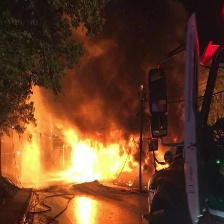fire: (68, 140, 93, 175)
smoke: (39, 1, 187, 131)
